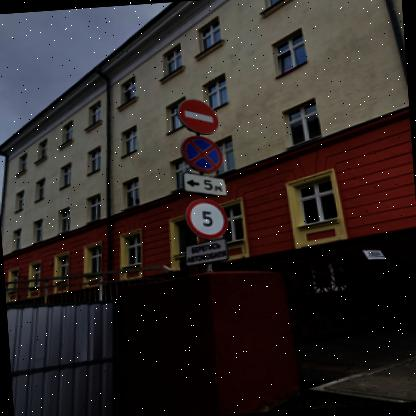speedlimit: (183, 196, 228, 240)
